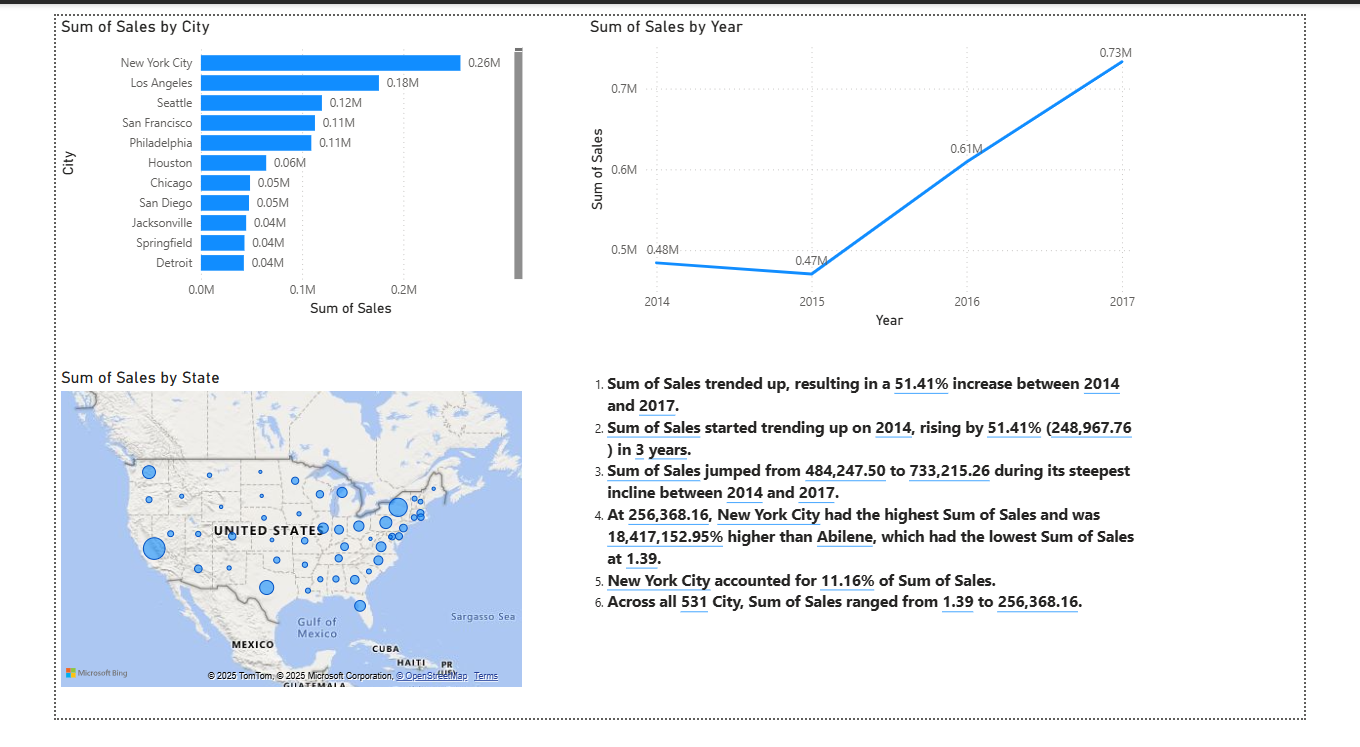

What the dashboard file says about the page in this screenshot:
{"tool":"powerbi","page":{"name":"Page 1","canvas":[1280,720],"ordinal":0},"visuals":[{"type":"clusteredBarChart","fields":{"Category":["Sample - Superstore.City"],"Y":["Sum(Sample - Superstore.Sales)"]},"box":[0,0,483.3,312.8],"z":0},{"type":"lineChart","fields":{"Category":["Sample - Superstore.Order Date.Variation.Date Hierarchy.Year","Sample - Superstore.Order Date.Variation.Date Hierarchy.Quarter","Sample - Superstore.Order Date.Variation.Date Hierarchy.Month","Sample - Superstore.Order Date.Variation.Date Hierarchy.Day"],"Y":["Sum(Sample - Superstore.Sales)"]},"box":[542.3,0,569.2,325.6],"z":1000},{"type":"map","fields":{"Category":["Sample - Superstore.State"],"Size":["Sum(Sample - Superstore.Sales)"]},"box":[0,360.3,483.3,333.3],"z":2000},{"type":"textbox","box":[542.3,360.3,569.2,333.3],"z":3000}]}

Visuals, with their boxes in screenshot pixels (x1, y1, x2, y2), scaled from the page's 1280x720 canvas onto the 1360x747 screenshot:
clusteredBarChart - Sample - Superstore.City x Sum(Sample - Superstore.Sales): box(0, 0, 514, 325)
lineChart - Sample - Superstore.Order Date.Variation.Date Hierarchy.Year x Sample - Superstore.Order Date.Variation.Date Hierarchy.Quarter: box(576, 0, 1181, 338)
map - Sample - Superstore.State x Sum(Sample - Superstore.Sales): box(0, 374, 514, 720)
textbox: box(576, 374, 1181, 720)
